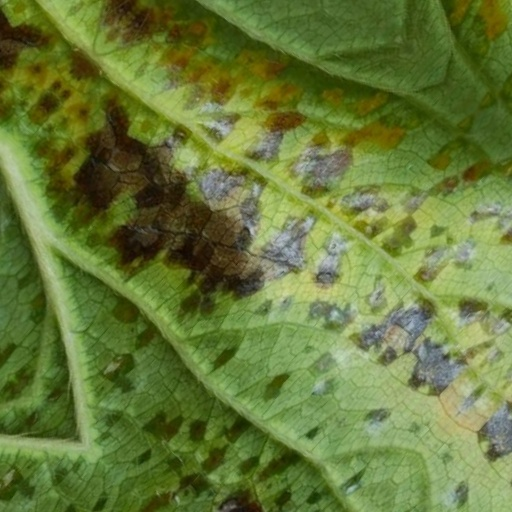Angular Leafspot: (0, 0, 511, 511)
